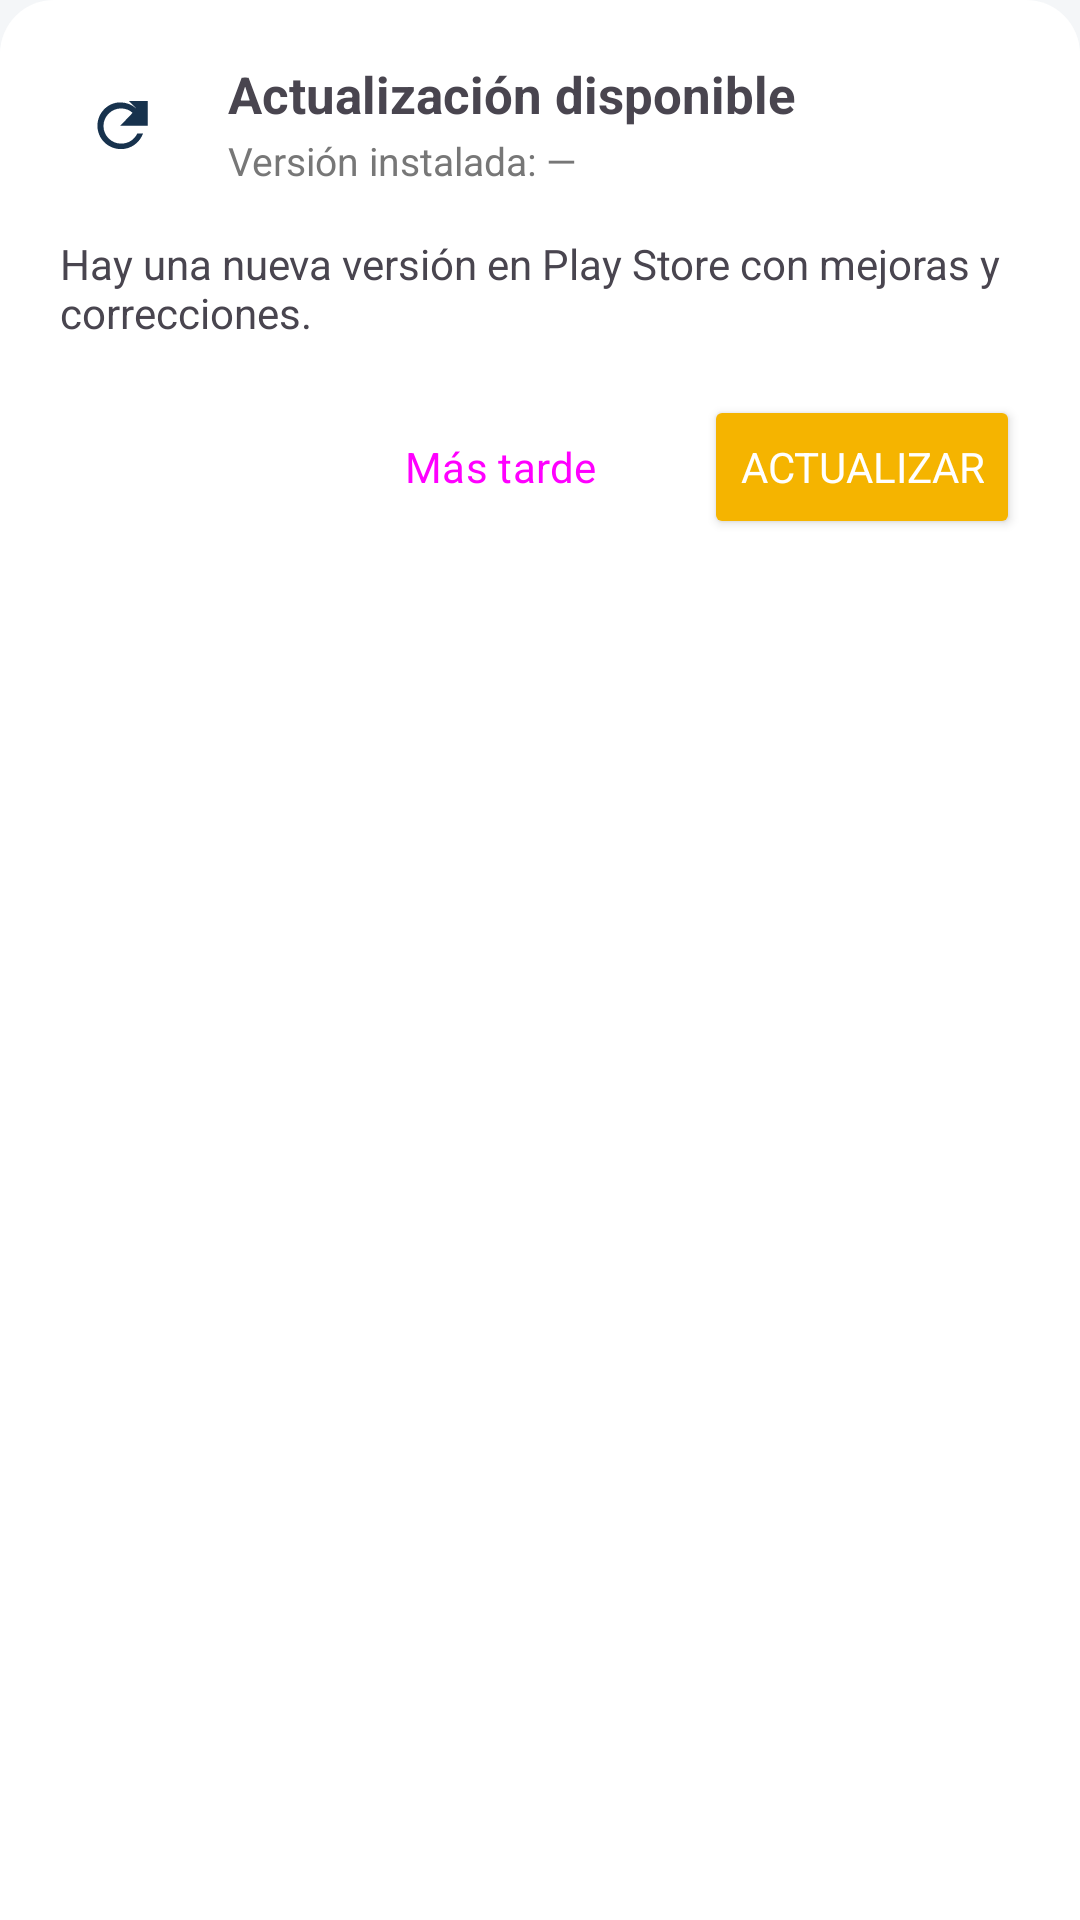

Icons on this 1080 × 1920 Android screen, each with its box as (x1, y1, x2, y2):
update animated: (97, 101, 148, 149)
